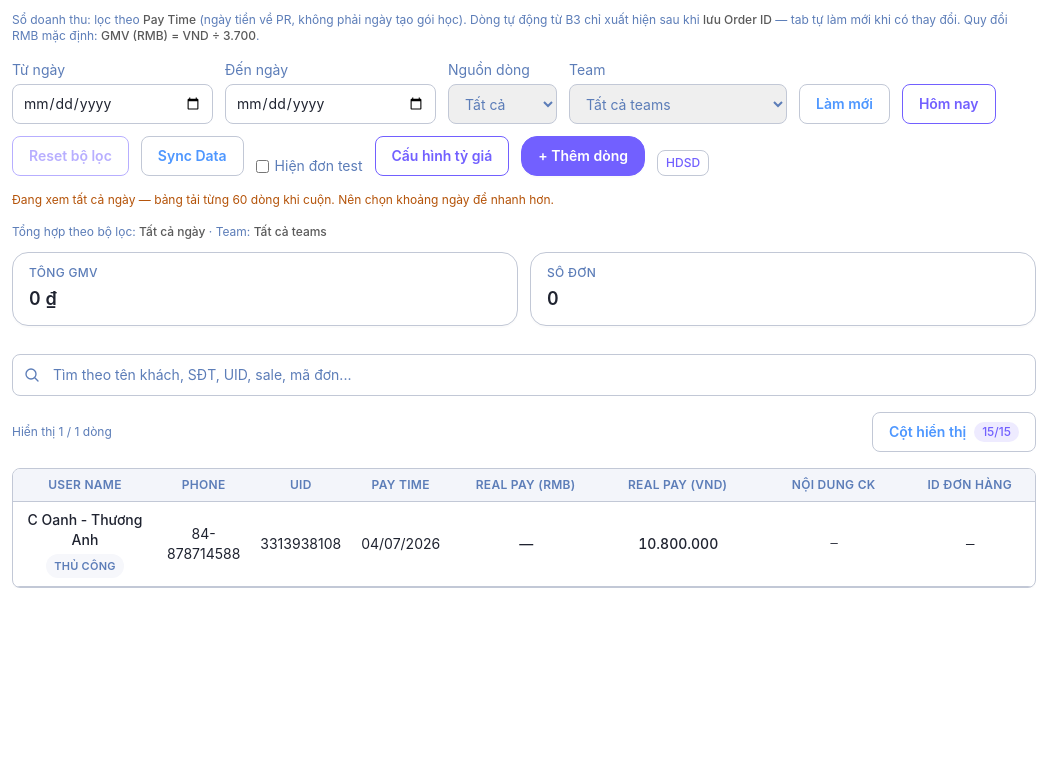
Test: SoDoanhThuTab column visibility › G1: header và body luôn cùng số cột, trước và sau khi ẩn cột
Expected: the text "C Oanh - Thương Anh" is shown, [23,510,147,550]
Click the button "Cột hiển thị 15/15" at (954, 432), box [872,412,1036,452]
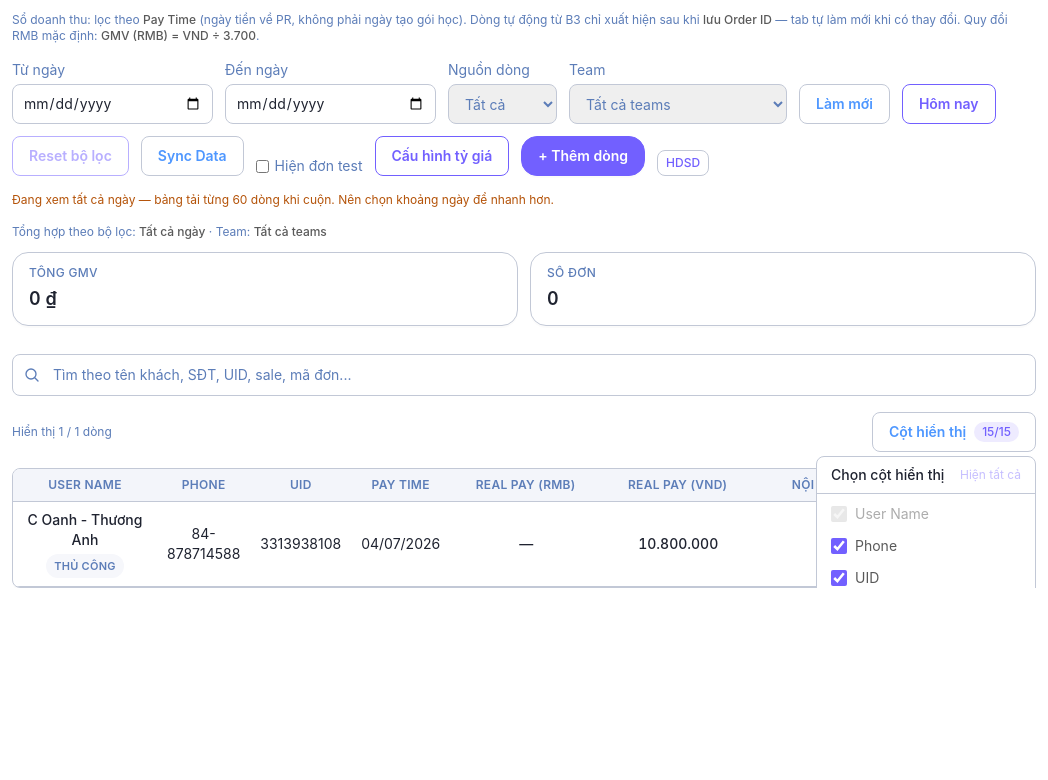
Click the checkbox labelled "Phone" at (839, 546), box [831,538,847,554]
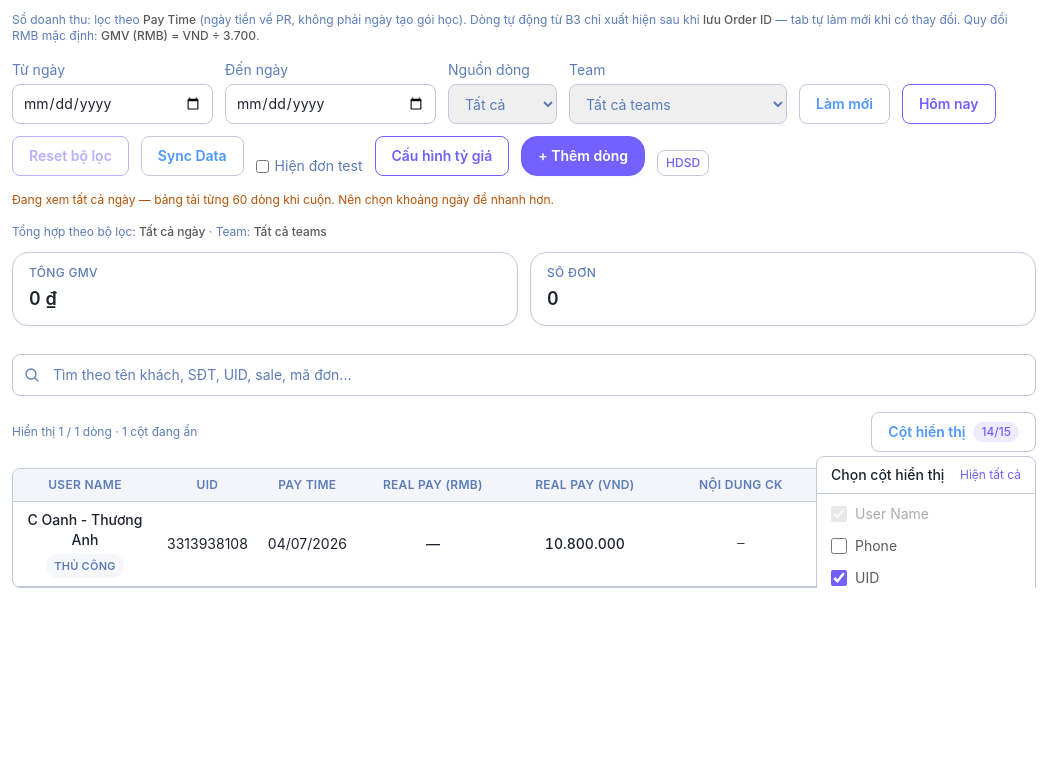
Expected: the text "Hiển thị 1 / 1 dòng · 1 cột đang ẩn" is shown, [12,424,197,440]
